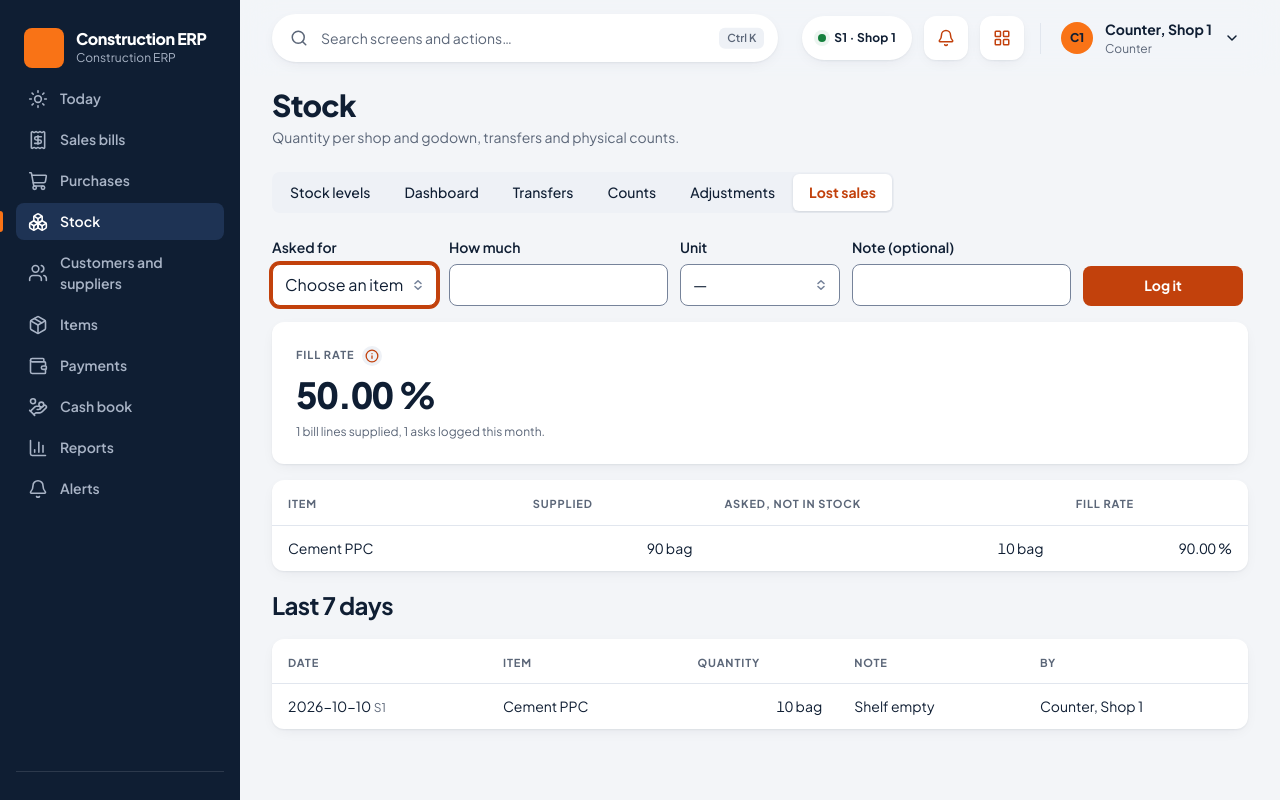
Test: Lost sales › lets counter staff log an ask in one step and shows quantities only
Expected: the table named "Fill rate by item" is shown, left=272, top=480, right=1248, bottom=571
Expected: the text "90.00 %" is shown, left=1060, top=525, right=1248, bottom=571
Click the button "Log it" at (1163, 286), box left=1083, top=266, right=1243, bottom=306
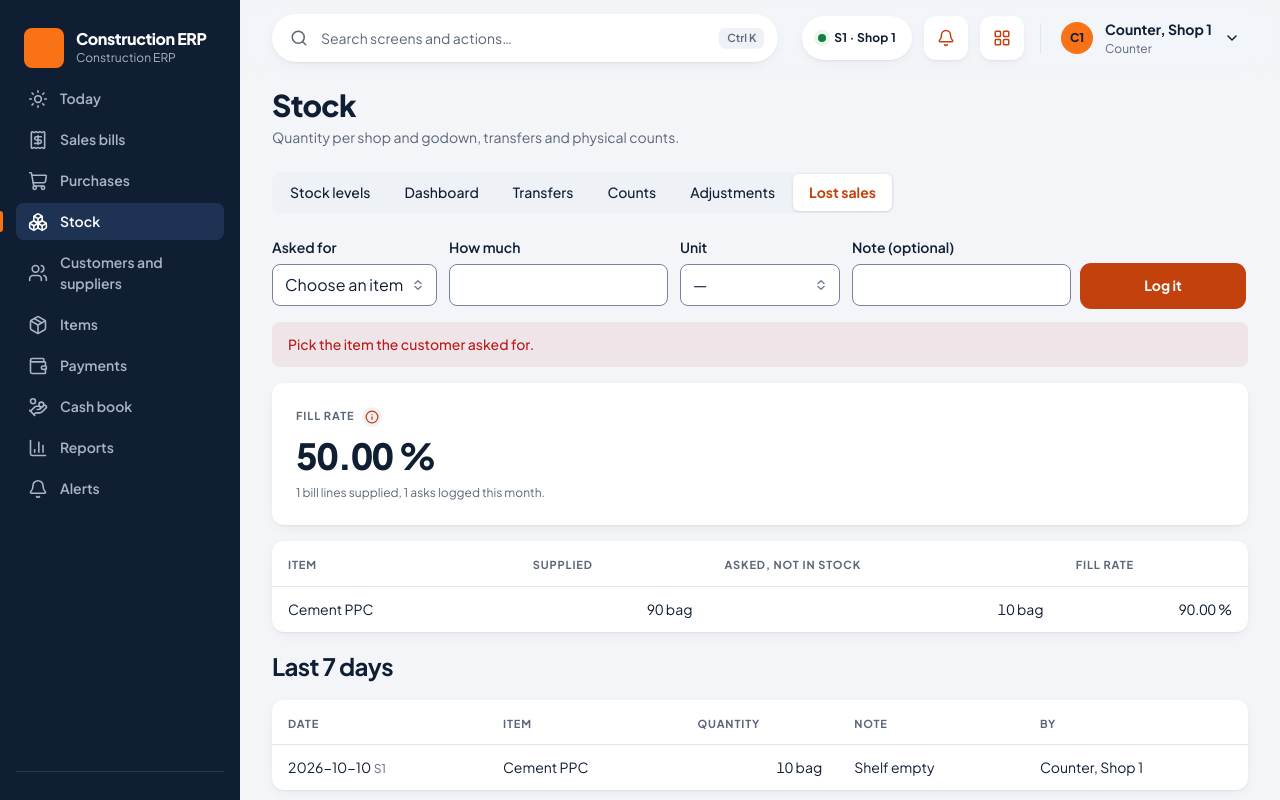
Result: the text "Pick the item the customer asked for." is shown at left=272, top=322, right=1248, bottom=366
Select "Cement PPC" in the dropdown labelled "Asked for" at (354, 284), box left=272, top=264, right=437, bottom=306
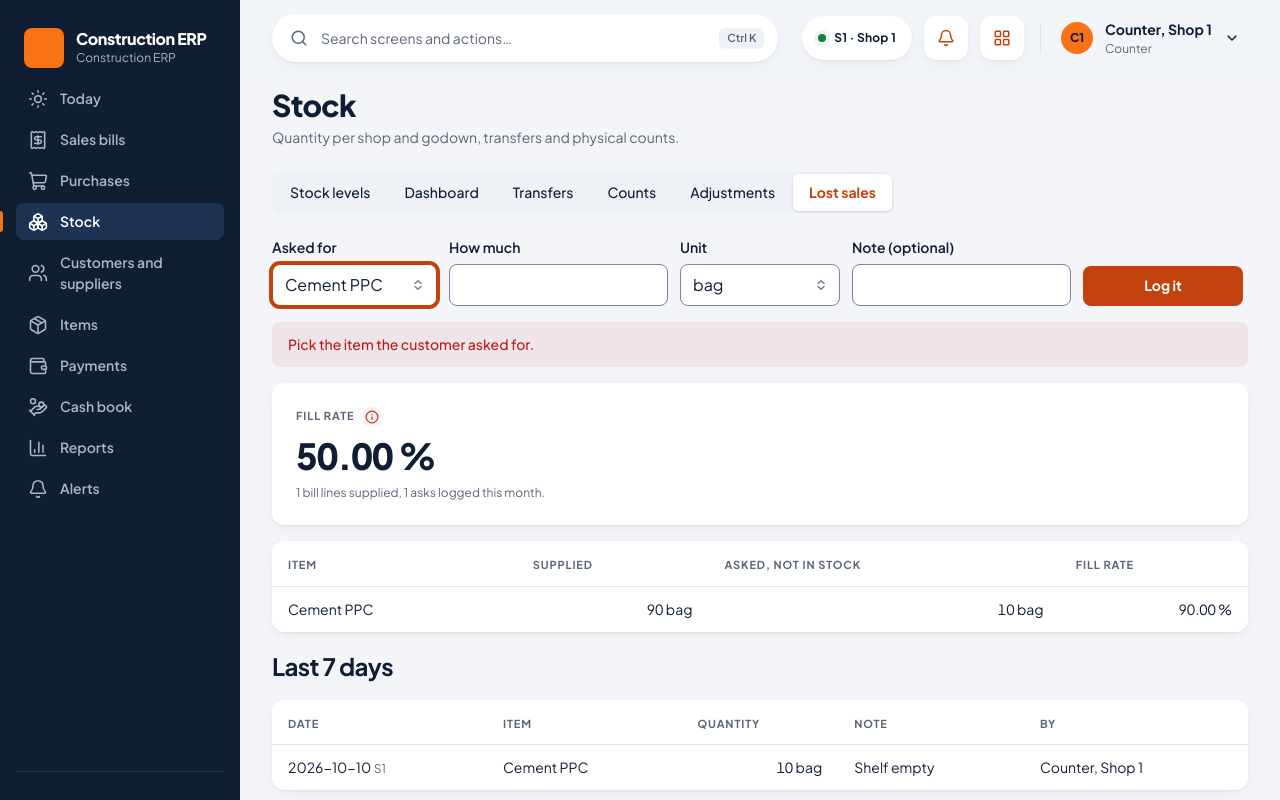
Type "10" into the field labelled "How much" at (558, 284), box left=449, top=264, right=668, bottom=306
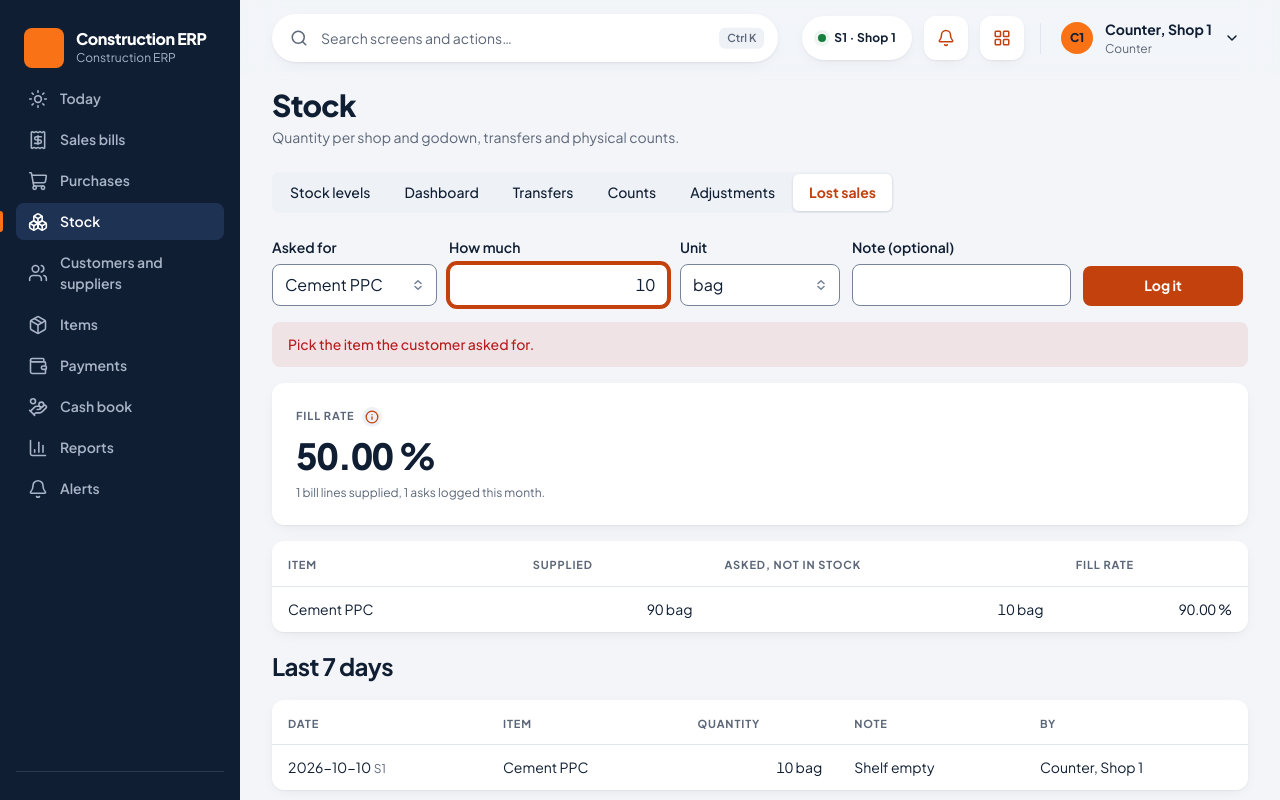
Type "Shelf empty" into the field labelled "Note (optional)" at (962, 284), box left=852, top=264, right=1071, bottom=306
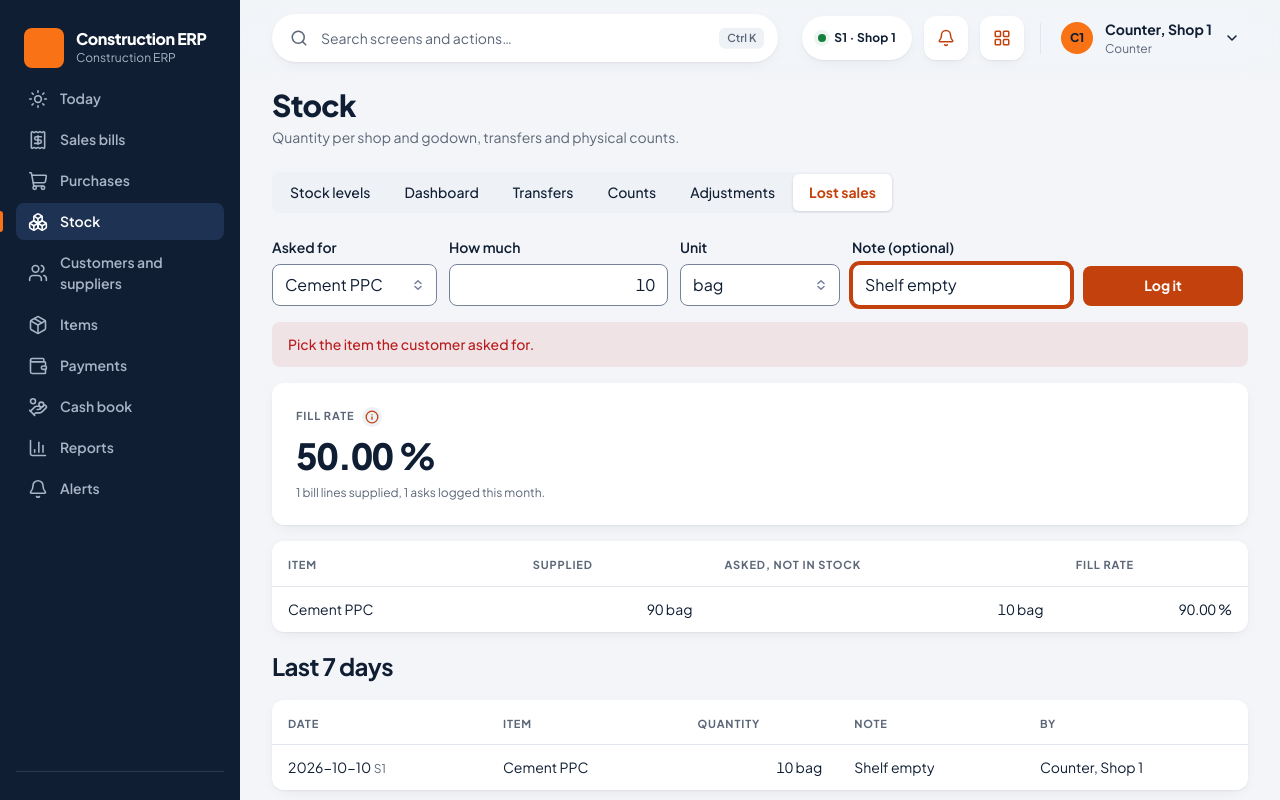
Click the button "Log it" at (1163, 286), box left=1083, top=266, right=1243, bottom=306
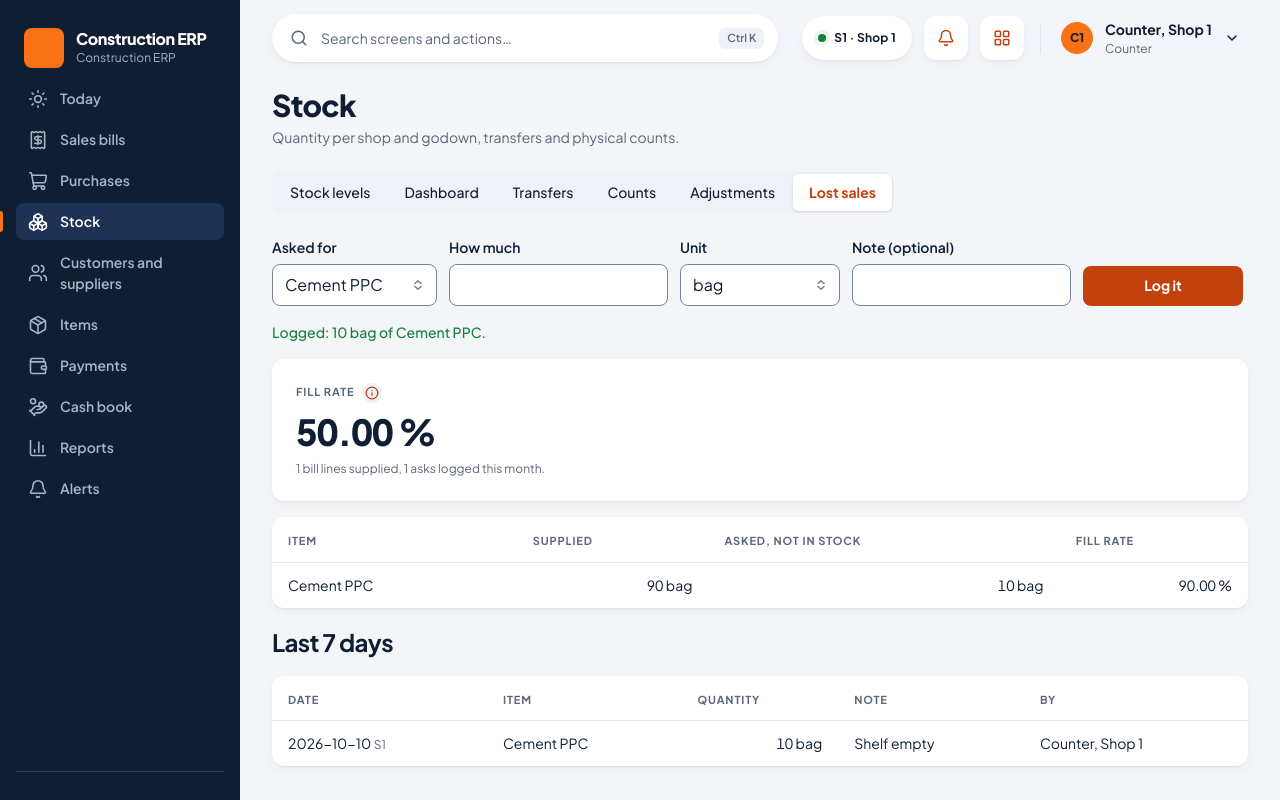
Result: the text "Logged: 10 bag of Cement PPC." is shown at left=272, top=322, right=486, bottom=340
